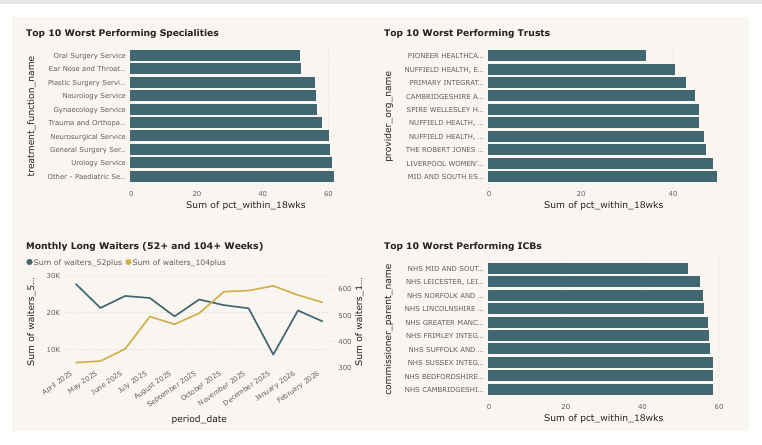

The dashboard page shown, as its layout file describes it:
{"tool":"powerbi","page":{"name":"Page 2","canvas":[1280,720],"ordinal":1},"visuals":[{"type":"clusteredBarChart","title":"Top 10 Worst Performing Specialities","fields":{"Category":["public specialty_summary.treatment_function_name"],"Y":["Sum(public specialty_summary.pct_within_18wks)"]},"box":[18.3,15,600,325],"z":0},{"type":"clusteredBarChart","title":"Top 10 Worst Performing Trusts","fields":{"Category":["public trust_summary.provider_org_name"],"Y":["Sum(public trust_summary.pct_within_18wks)"]},"box":[640,16,600,324],"z":1000},{"type":"lineChart","title":"Monthly Long Waiters (52+ and 104+ Weeks)","fields":{"Y":["Sum(public rtt_waiting.waiters_52plus)"],"Category":["public rtt_waiting.period_date"],"Y2":["Sum(public rtt_waiting.waiters_104plus)"]},"box":[18,386,600,325],"z":2000},{"type":"clusteredBarChart","title":"Top 10 Worst Performing ICBs","fields":{"Category":["public icb_summary.commissioner_parent_name"],"Y":["Sum(public icb_summary.pct_within_18wks)"]},"box":[640,386,600,325],"z":3000}]}

Visuals, with their boxes on the page's 1280x720 design canvas (x1, y1, x2, y2). These are canvas units, not pixel positions in the 762x445 screenshot, which may show the page scaled, cropped or inside an application window:
"Top 10 Worst Performing Specialities" clusteredBarChart: locate(18, 15, 618, 340)
"Top 10 Worst Performing Trusts" clusteredBarChart: locate(640, 16, 1240, 340)
"Monthly Long Waiters (52+ and 104+ Weeks)" lineChart: locate(18, 386, 618, 711)
"Top 10 Worst Performing ICBs" clusteredBarChart: locate(640, 386, 1240, 711)
